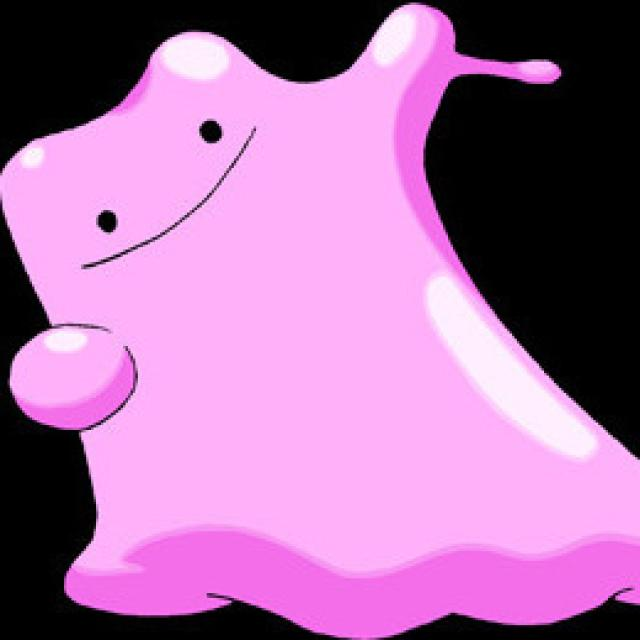Ditto: (17, 10, 590, 622)
